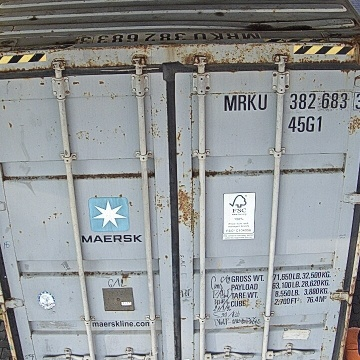serial_id: (224, 91, 360, 110)
